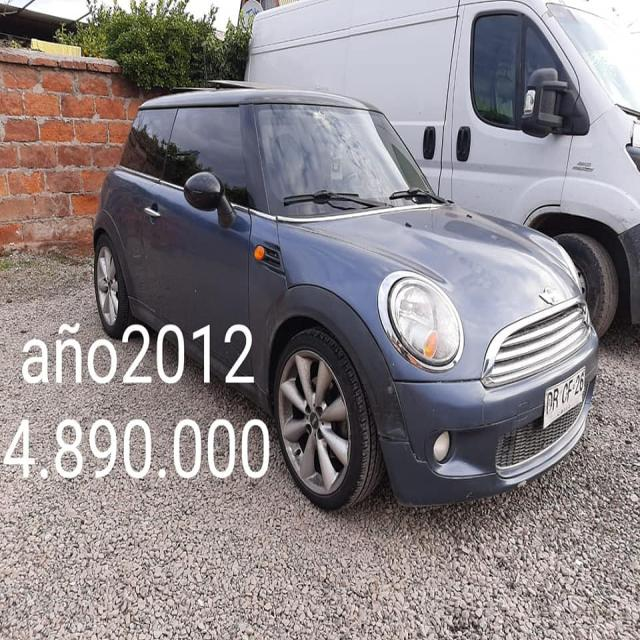patente: (542, 366, 588, 430)
